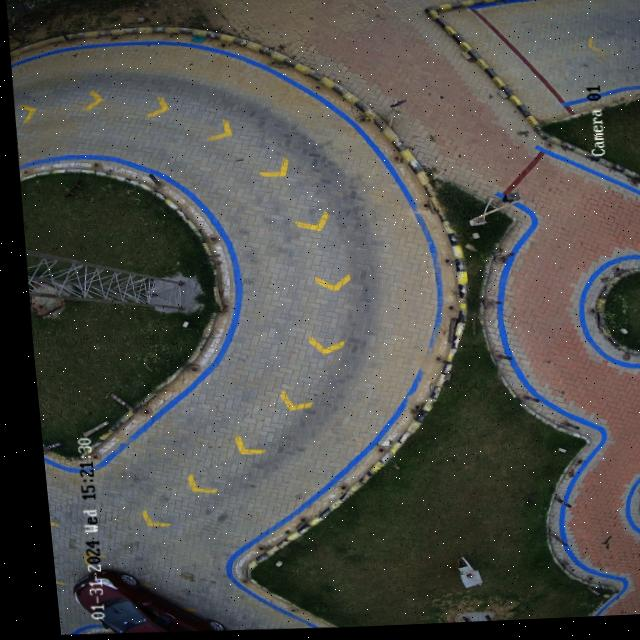car: (60, 569, 211, 634)
